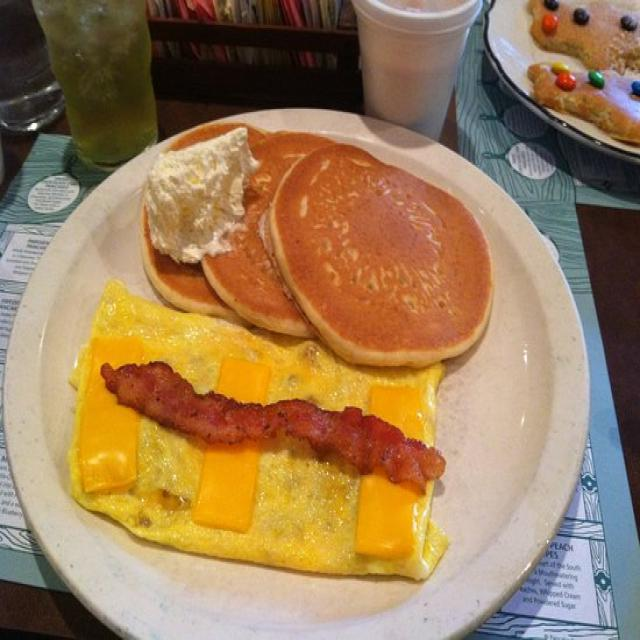Omelette: (63, 276, 450, 592)
Pancakes: (143, 123, 497, 358)
